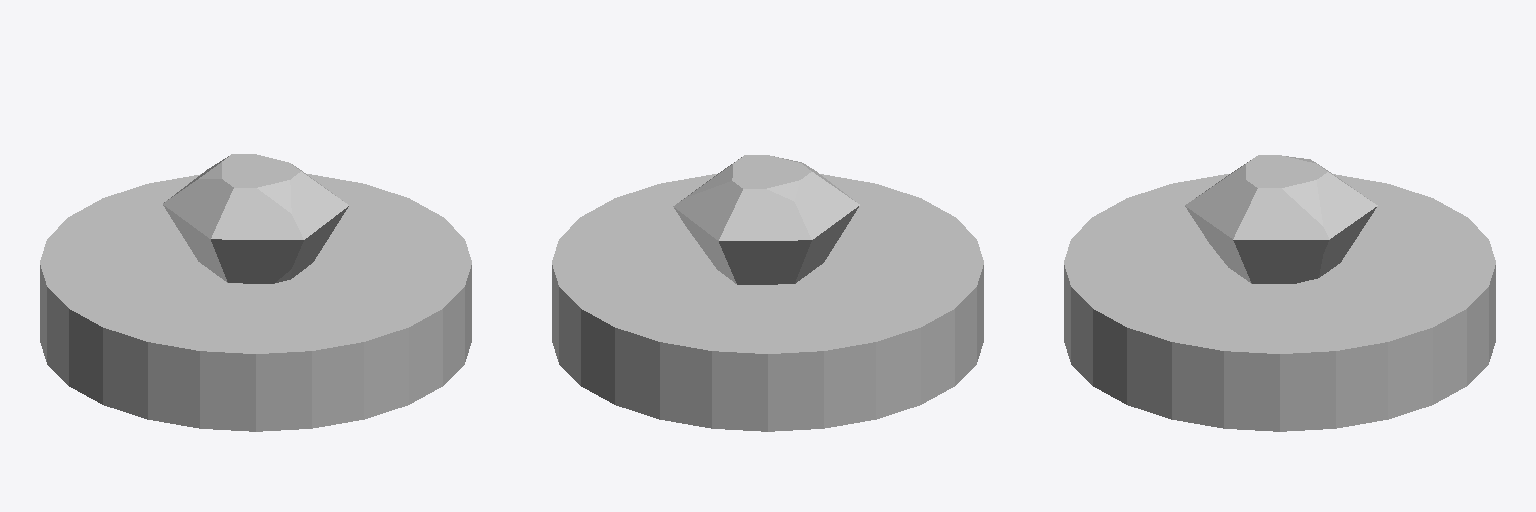
Rendered from gems_diamond_2.obj.
The picture shows the model from 3 angles: view 1: azimuth 30°, elevation 25°; view 2: azimuth 150°, elevation 25°; view 3: azimuth 270°, elevation 25°; orthographic projection.
Visible parts, largest first — view 1: mergedBlocks; view 2: mergedBlocks; view 3: mergedBlocks.
Part boxes in pixels (x1,y1,x2,y2): mergedBlocks: (40,154,471,431); mergedBlocks: (552,155,983,431); mergedBlocks: (1064,155,1495,431).
Bounding box in the file's own units: 1 × 0.4308 × 1.